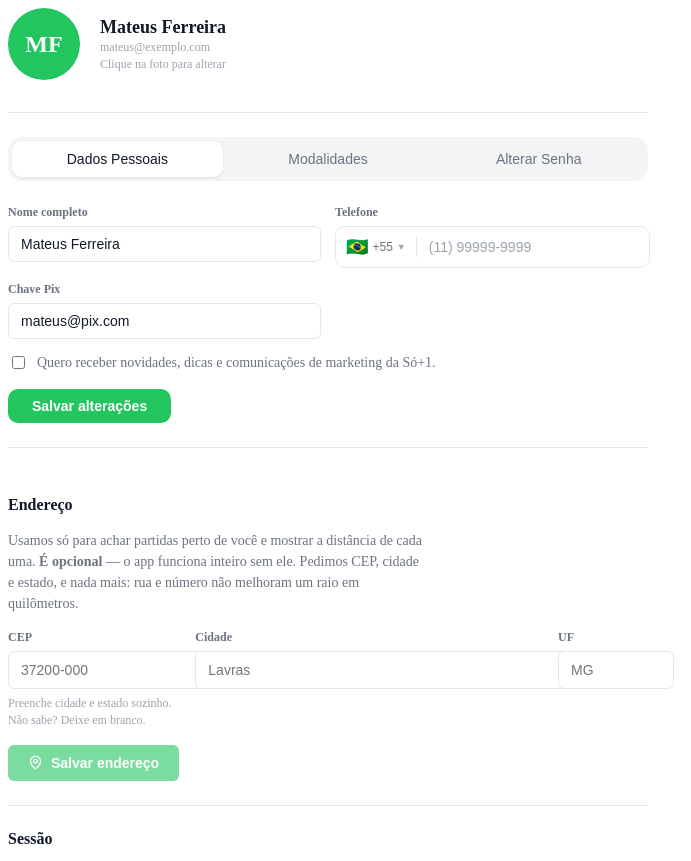
Perfil — a #242 › mostra o erro na tela quando o PATCH falha
expect the field showing "mateus@pix.com" below "Chave Pix" is shown: met, box [8,303,321,339]
Replace the text in the field with placeholder "Seu nome" below "Nome completo" with "Outro Nome". click: (164,244)
box: [8,226,321,262]
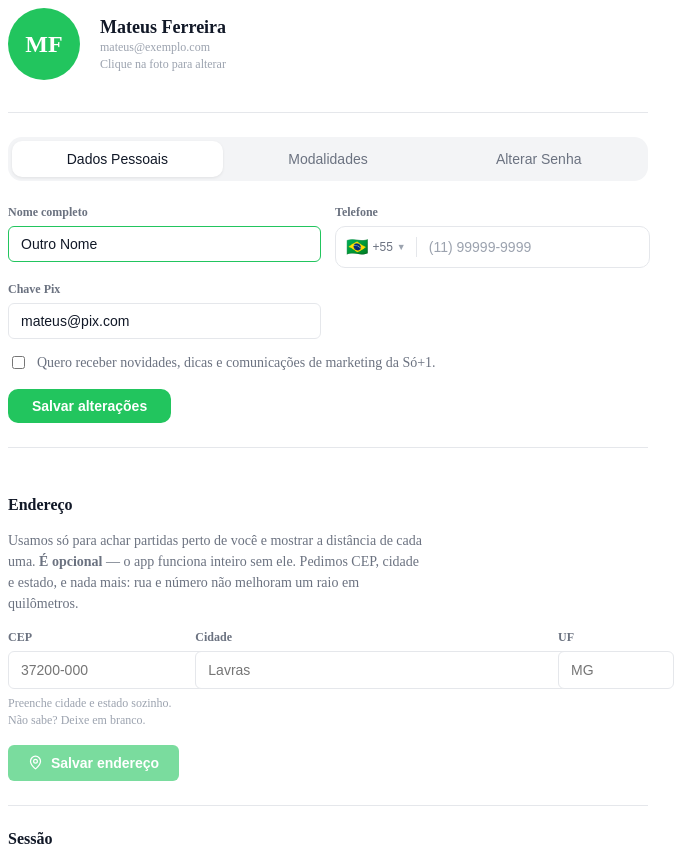
Click the button "Salvar alterações". click: (90,406)
box: [8,389,171,423]
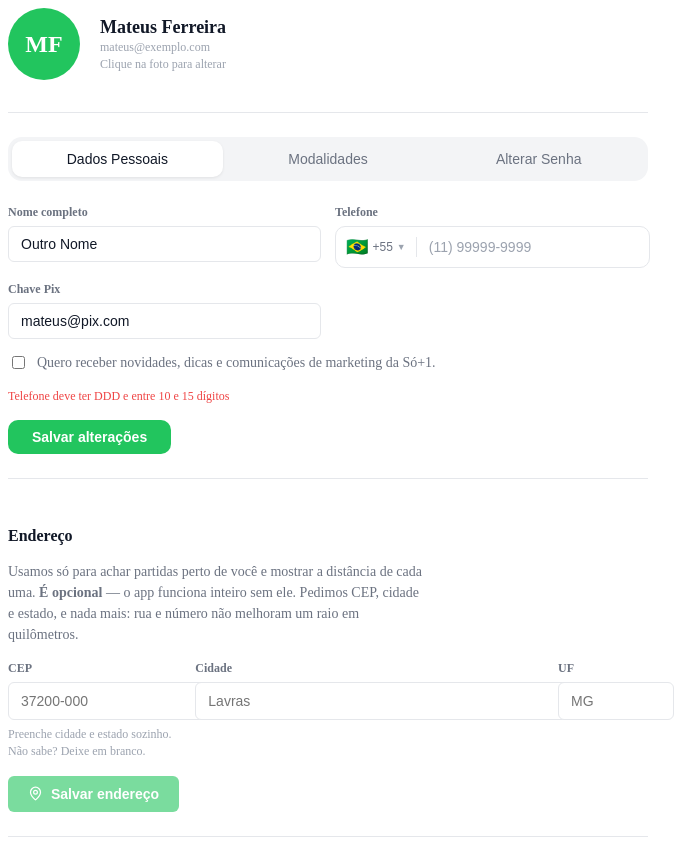
expect the message reads "Telefone deve ter DDD e entre 10 e 15 dígitos": met, box [8,389,229,403]
